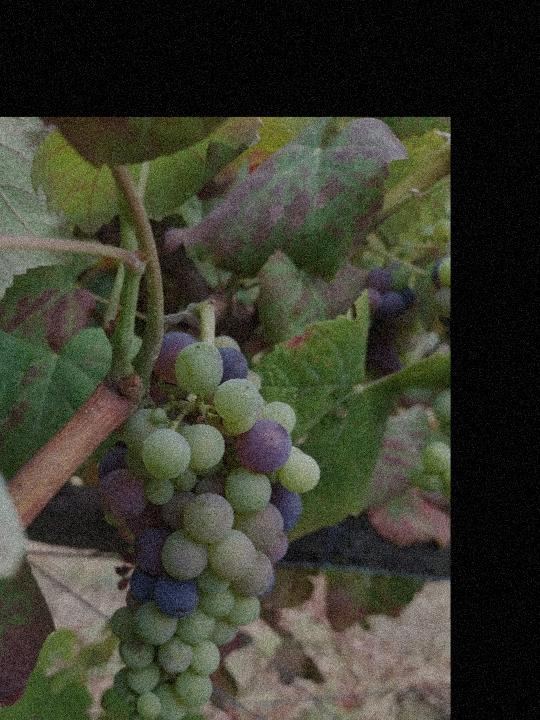grape: (95, 331, 325, 720)
